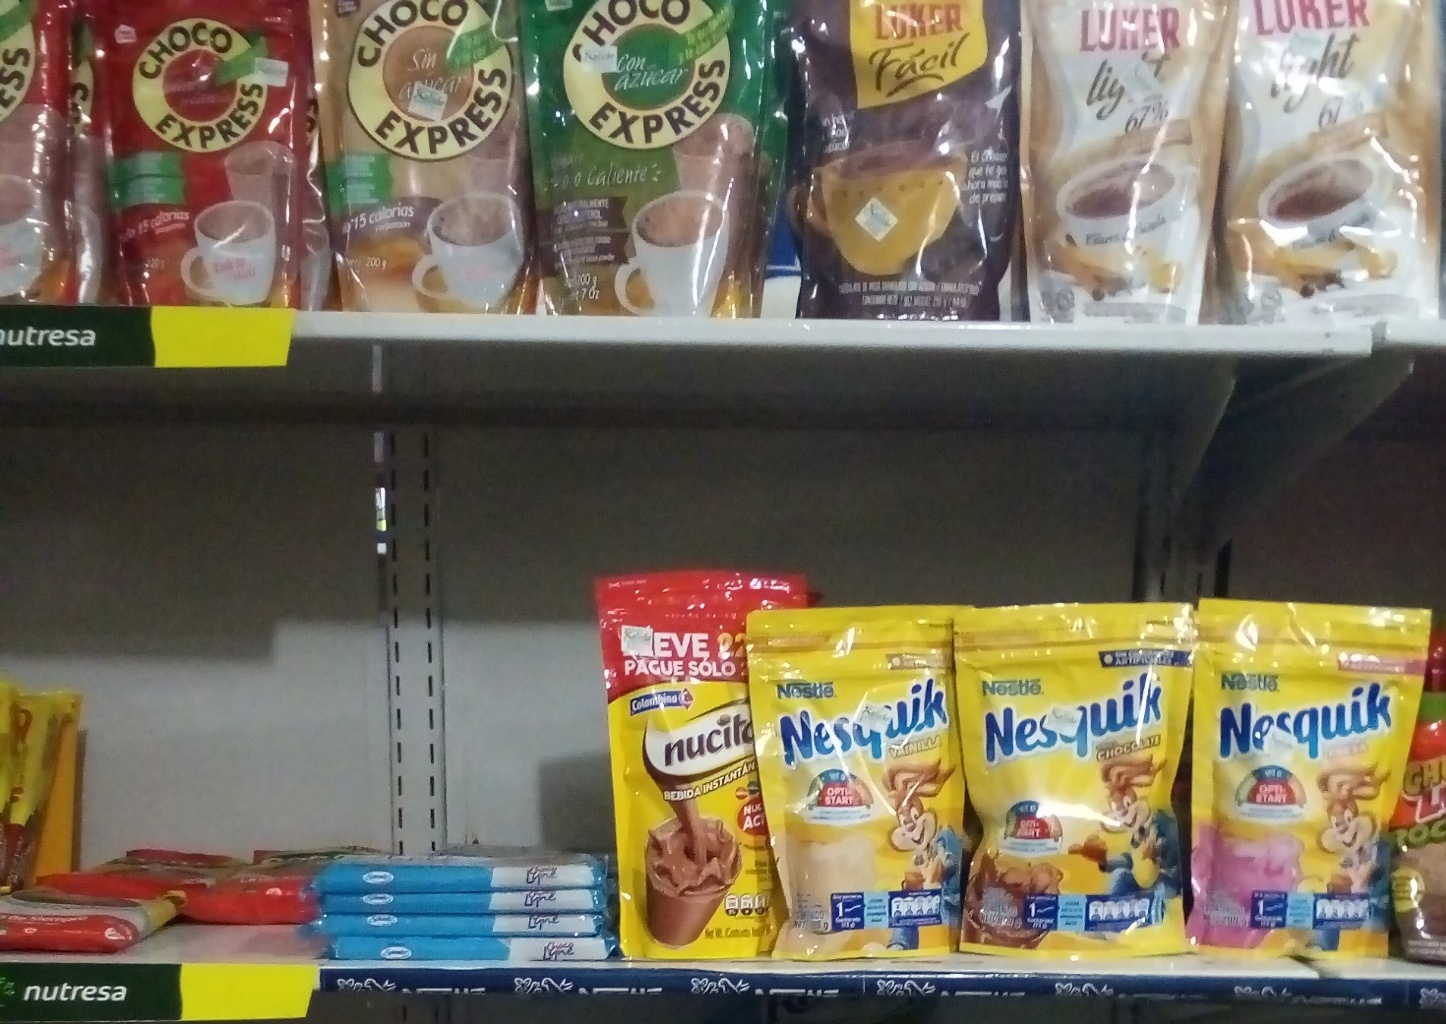COL0170102DYP10000: (1394, 684, 1443, 959)
COL0170303DYP20000: (958, 595, 1193, 955)
COL0170305DYP20000: (1200, 595, 1432, 969)
COL0170306DYP20000: (732, 600, 965, 955)
